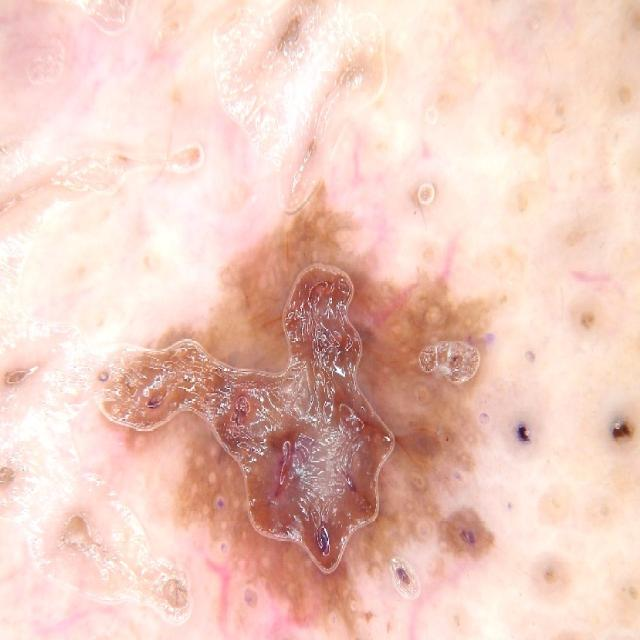Melanoma: (95, 179, 560, 640)
